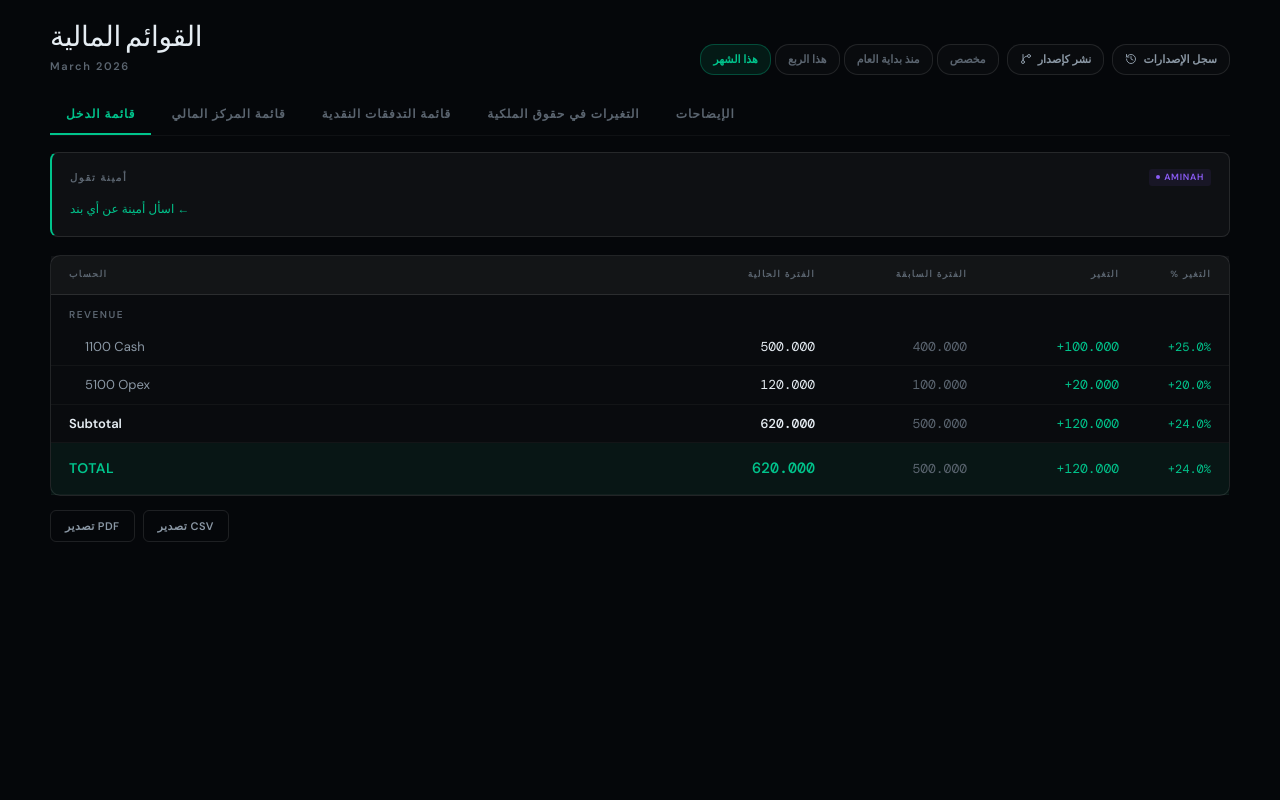
Test: SOCIE tab (HASEEB-213) › renders SOCIE tab bilingually in Arabic
Click the button "التغيرات في حقوق الملكية" at (563, 114), box [471,92,656,134]
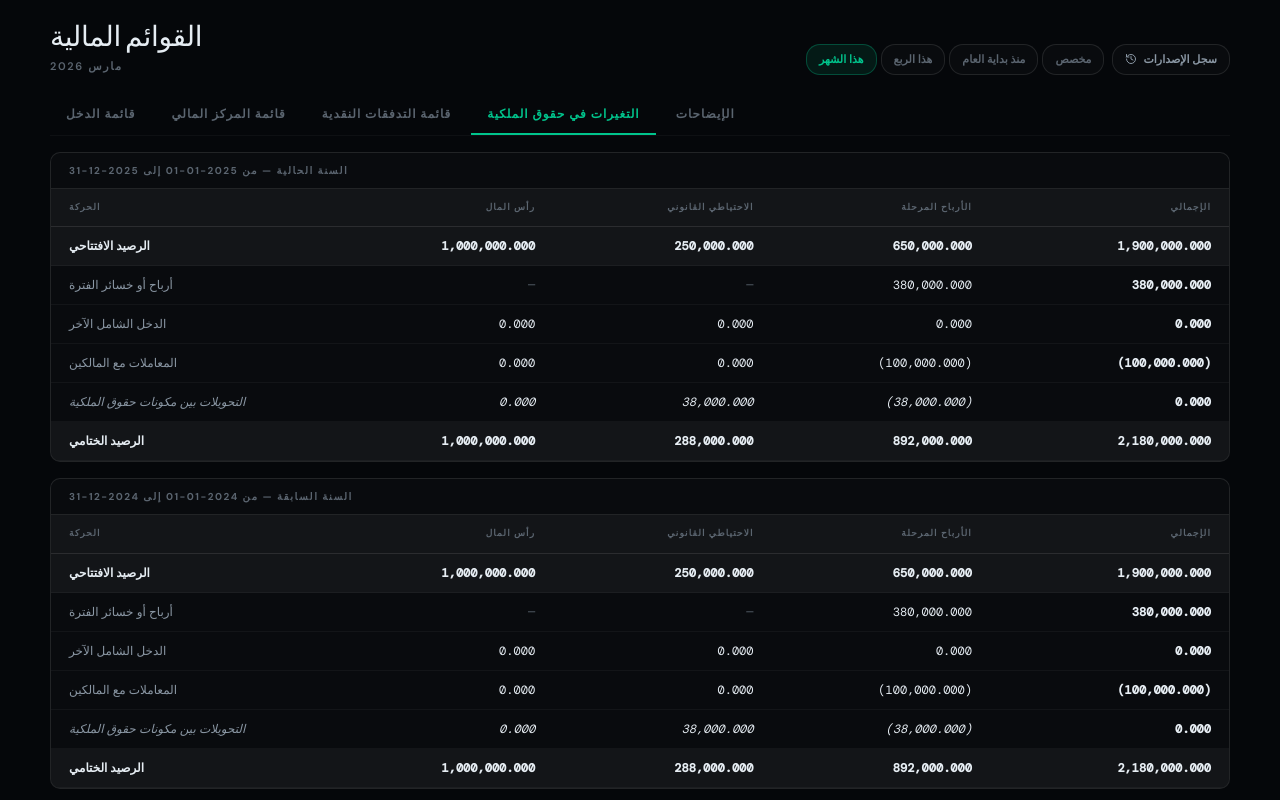
Check: the 1st text "الرصيد الافتتاحي" is shown, box [69,238,150,254]
Check: the 1st text "الرصيد الختامي" is shown, box [69,433,144,449]
